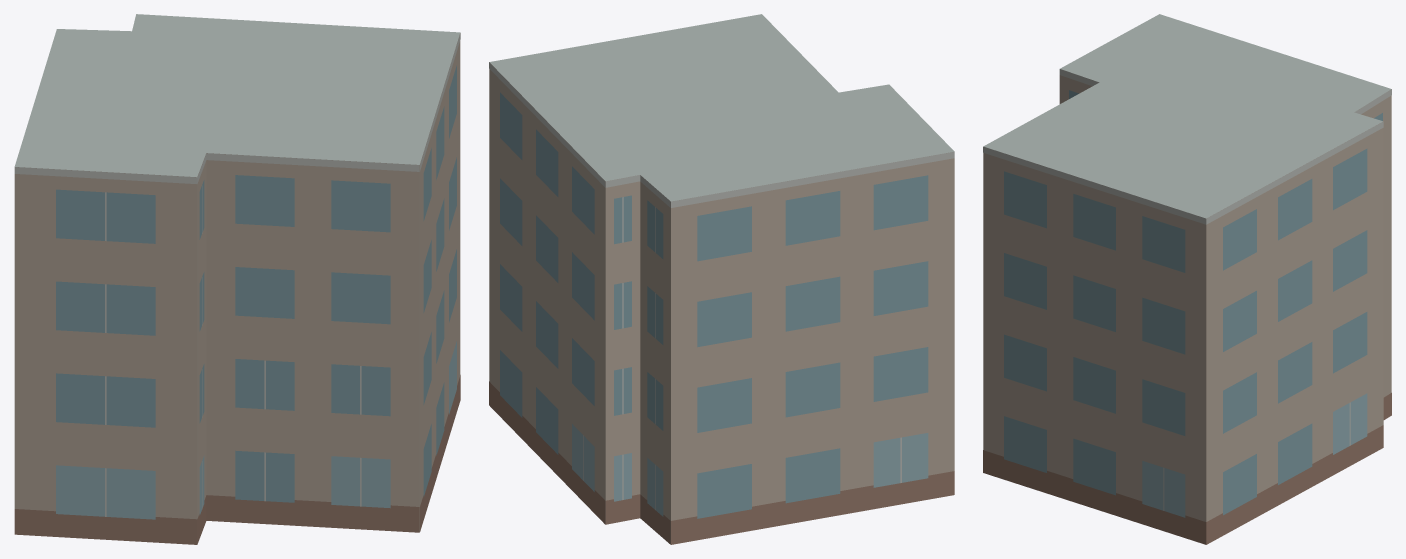
The model's file is survey-upis-32693671.glb.
3 renders of one model, left to right at view 1: azimuth 30°, elevation 25°; view 2: azimuth 150°, elevation 25°; view 3: azimuth 270°, elevation 25°, orthographic. The views are drawn at different scales.
Visible parts, largest first — view 1: survey-upis-32693671.tmp; view 2: survey-upis-32693671.tmp; view 3: survey-upis-32693671.tmp.
Boxes of the visible parts, box(x1,y1,x2,y2) form: survey-upis-32693671.tmp: box(14, 14, 460, 544); survey-upis-32693671.tmp: box(489, 14, 954, 544); survey-upis-32693671.tmp: box(983, 14, 1391, 544).
Bounding box in the file's own units: 17.21 × 12.8 × 14.53.
